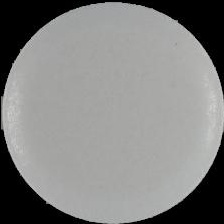65162-521: (0, 0, 224, 224)
